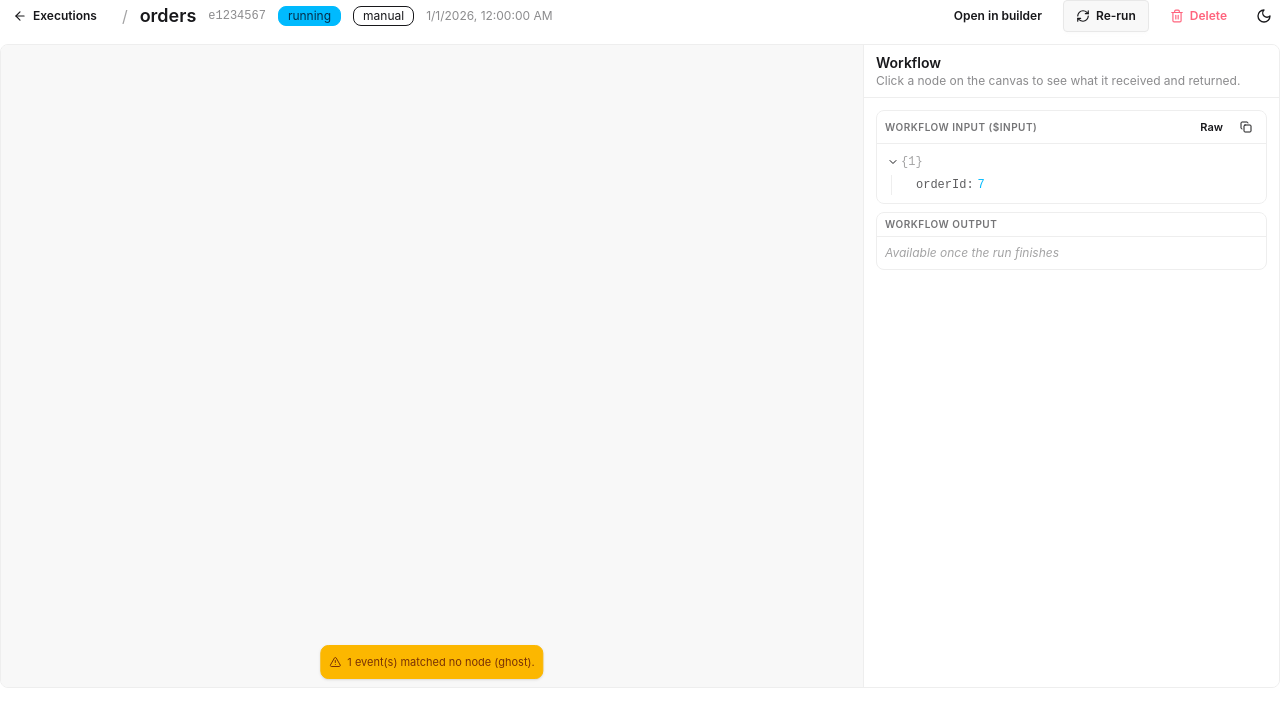
execution page › attaches to a running run and stops on leaving
The image size is (1280, 720).
expect the text "running" is shown: met, box 278,6 -> 341,26
Click the button "Delete" at (1198, 16), box 1157,0 -> 1240,32
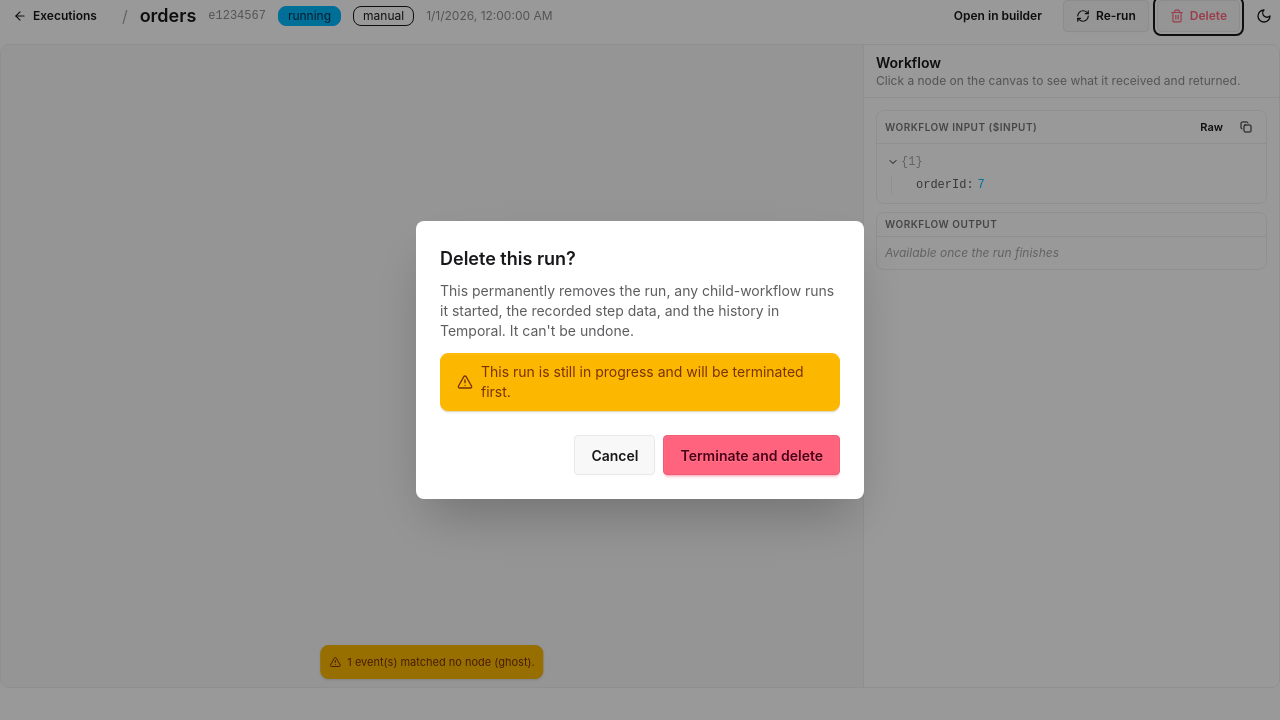
expect the text "This run is still in progress and will be terminated first." is shown: met, box 481,362 -> 823,402
